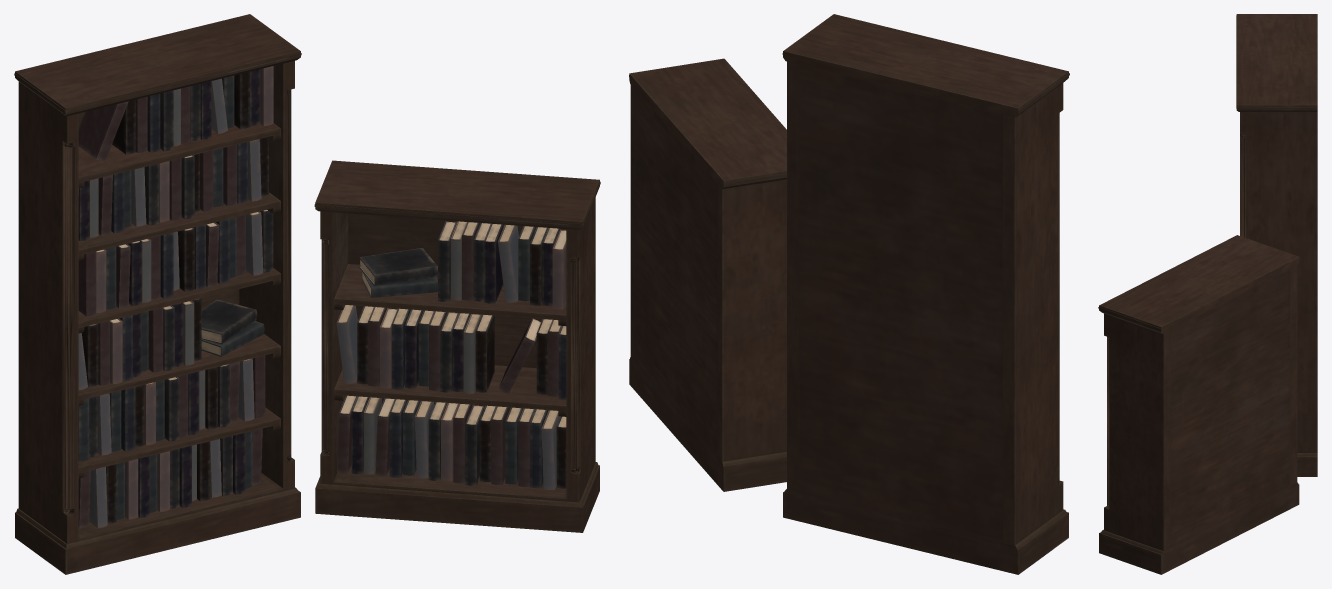
File: wooden-bookcases-with-books-d0618a.glb
3 renders of one model, left to right at view 1: azimuth 30°, elevation 25°; view 2: azimuth 150°, elevation 25°; view 3: azimuth 270°, elevation 25°, orthographic. The views are drawn at different scales.
Visible parts, largest first — view 1: PropMesh; view 2: PropMesh; view 3: PropMesh.
Boxes of the visible parts, left/top/right/bottom form: PropMesh: left=14, top=14, right=600, bottom=574; PropMesh: left=629, top=14, right=1069, bottom=574; PropMesh: left=1098, top=14, right=1317, bottom=574.
Size of the model in its own units: 1.97 by 1.8 by 0.9618.
1 material, 1 textured.
